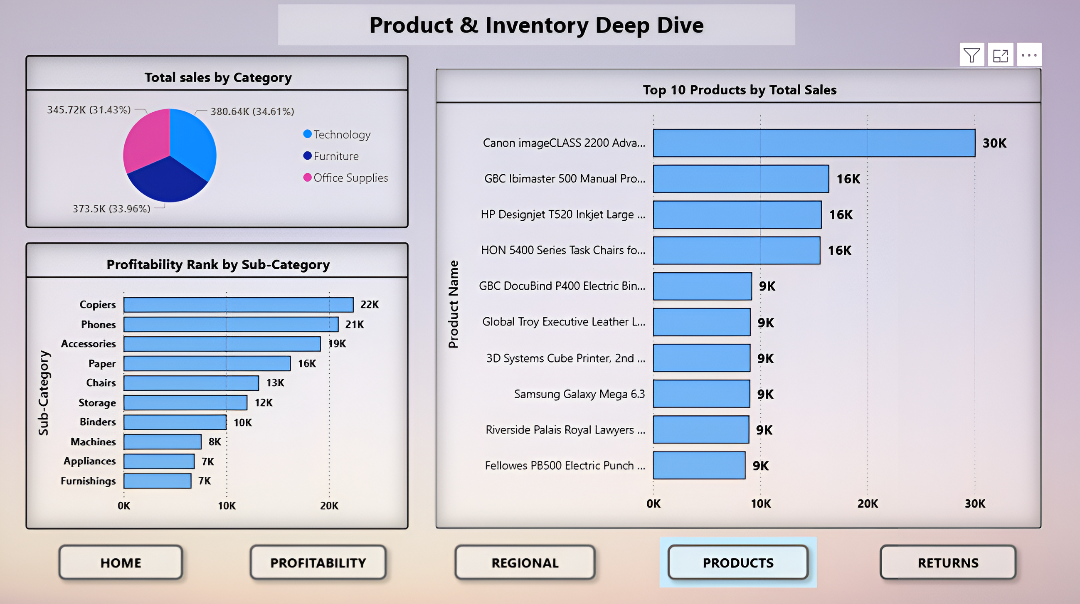

Layout of this report page (visuals, bound fields, positions):
{"tool":"powerbi","page":{"name":"Product & Inventory","canvas":[1280,720],"ordinal":3},"visuals":[{"type":"pieChart","fields":{"Category":["Orders.Category"],"Y":["Orders.Total sales"]},"box":[35.7,68.6,450.1,203.1],"z":0},{"type":"clusteredBarChart","title":"Profitability Rank by Sub-Category","fields":{"Category":["Orders.Sub-Category"],"Y":["Orders.Total Profit"]},"box":[35.7,288.2,450.1,337.6],"z":1000},{"type":"actionButton","box":[65.1,634.6,165.3,60.3],"z":2000},{"type":"actionButton","box":[289.5,634.6,179.8,60.3],"z":3000},{"type":"actionButton","box":[530.8,634.6,184.6,60.3],"z":4000},{"type":"actionButton","box":[781.8,634.6,184.6,60.3],"z":5000},{"type":"actionButton","box":[1030.3,634.6,179.8,60.3],"z":6000},{"type":"textbox","box":[332.1,8.2,607.9,48],"z":7000},{"type":"clusteredBarChart","title":"Top 10 Products by Total Sales","fields":{"Category":["Orders.Product Name"],"Y":["Orders.Total sales"]},"box":[517.3,83.7,713.6,542],"z":8000}]}

Visuals, with their boxes in screenshot pixels (x1, y1, x2, y2), scaled from the page's 1280x720 canvas onto the 1080x604 screenshot:
pieChart - Orders.Category x Orders.Total sales: bbox(30, 58, 410, 228)
"Profitability Rank by Sub-Category" clusteredBarChart: bbox(30, 242, 410, 525)
actionButton: bbox(55, 532, 194, 583)
actionButton: bbox(244, 532, 396, 583)
actionButton: bbox(448, 532, 604, 583)
actionButton: bbox(660, 532, 815, 583)
actionButton: bbox(869, 532, 1021, 583)
textbox: bbox(280, 7, 793, 47)
"Top 10 Products by Total Sales" clusteredBarChart: bbox(436, 70, 1039, 525)
